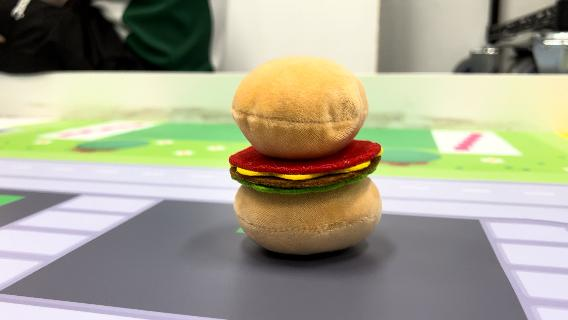burger: (223, 51, 388, 257)
